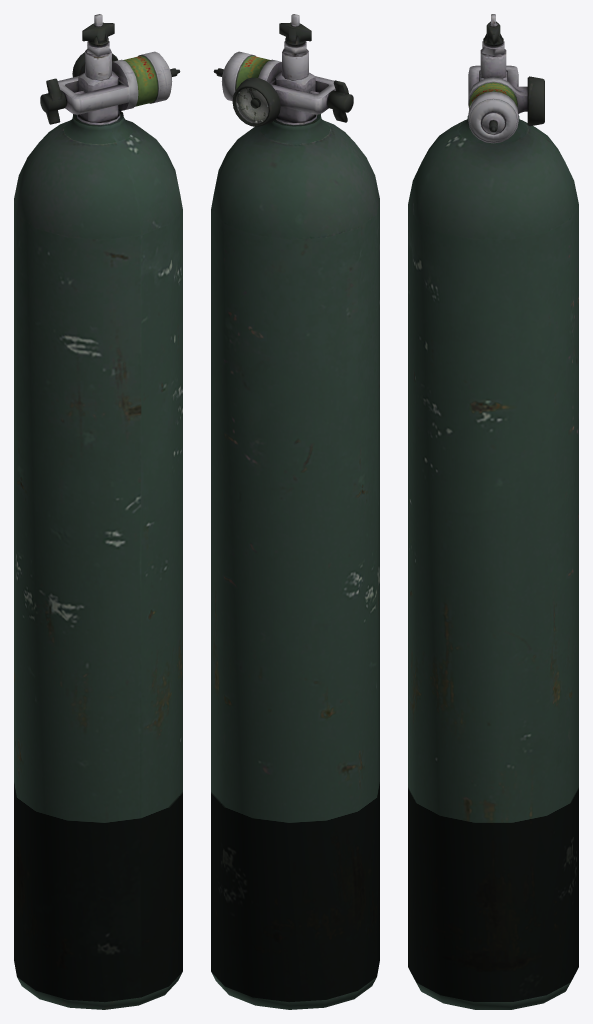
Rendered from Oxigen.fbx.
3 renders of one model, left to right at view 1: azimuth 30°, elevation 25°; view 2: azimuth 150°, elevation 25°; view 3: azimuth 270°, elevation 25°, orthographic.
Visible parts, largest first — view 1: oxigen; view 2: oxigen; view 3: oxigen.
Part boxes in pixels (x1,y1,x2,y2): oxigen: (14, 14, 182, 1009); oxigen: (211, 14, 379, 1009); oxigen: (408, 14, 578, 1009).
Bounding box in the file's own units: 13.59 × 81.91 × 13.15.
Materials: 1 (1 with a texture image).
